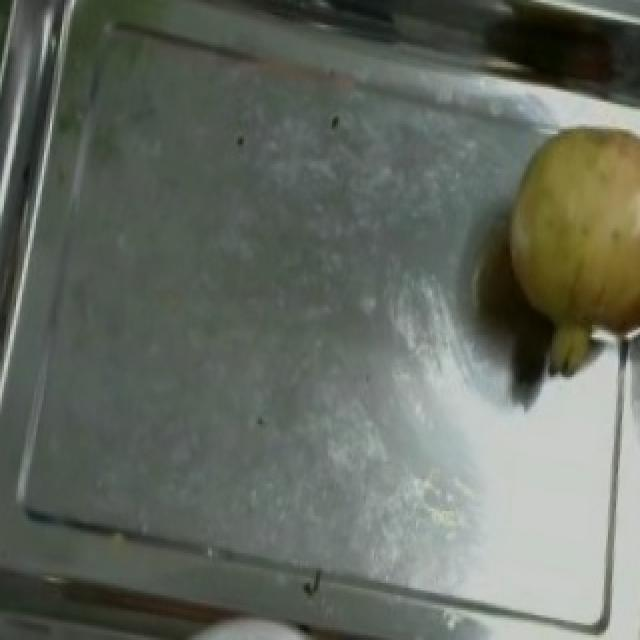fruit: (492, 99, 640, 357)
